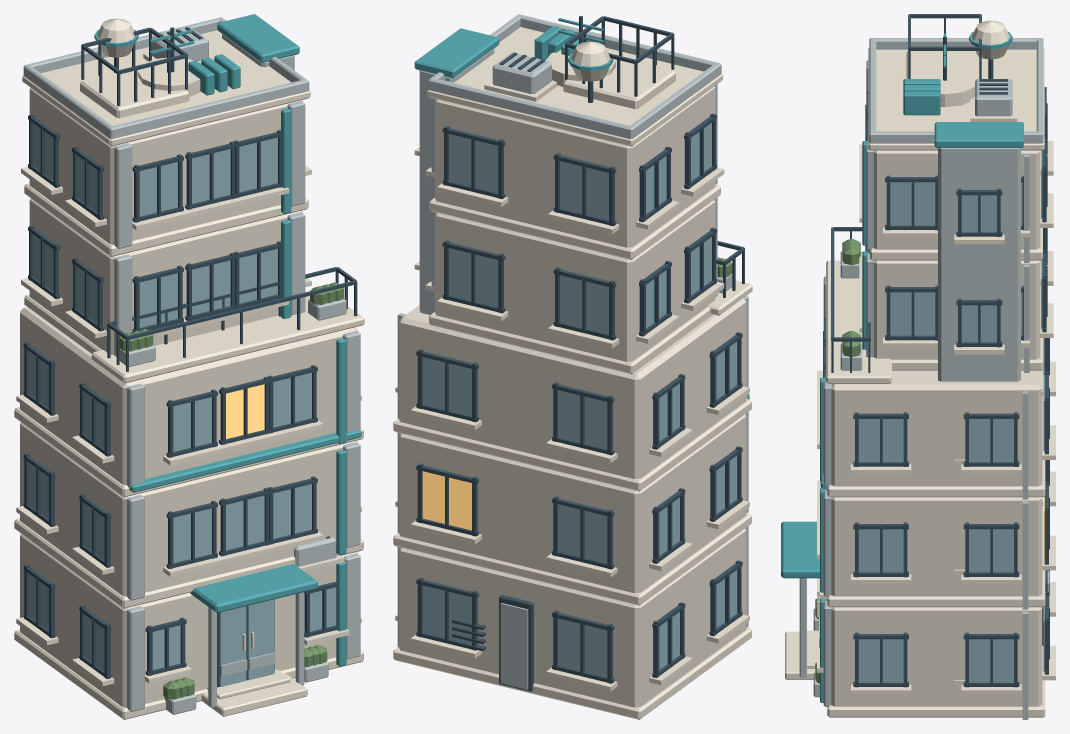
The model's file is development-l05.glb.
The picture shows the model from 3 angles, left to right: view 1: azimuth 30°, elevation 25°; view 2: azimuth 150°, elevation 25°; view 3: azimuth 270°, elevation 25°; orthographic projection. The views are drawn at different scales.
Visible parts, largest first — view 1: development_L05; view 2: development_L05; view 3: development_L05.
Boxes of the visible parts, <box> form: development_L05: <box>14,14,364,719</box>; development_L05: <box>393,14,752,719</box>; development_L05: <box>781,14,1055,719</box>.
Bounding box in the file's own units: 5.17 × 11.87 × 4.8.
